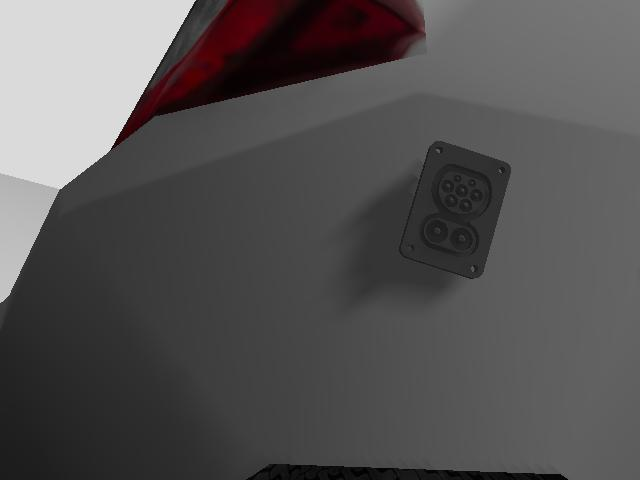EV-socket: (401, 142, 510, 277)
